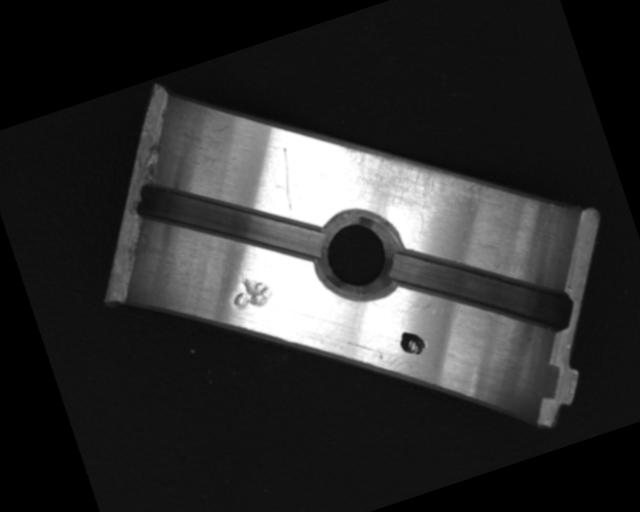blot: (396, 325, 429, 360)
bruise: (225, 268, 275, 315)
gap: (129, 136, 327, 305), (386, 207, 578, 375)
hole: (300, 199, 414, 314)
nick: (267, 147, 307, 219)
scratch: (335, 100, 504, 252)
